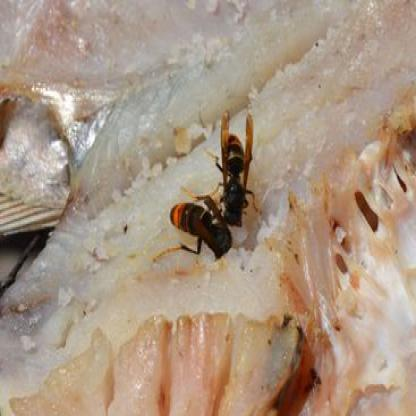Asian Hornet: (212, 101, 263, 233), (170, 194, 235, 264)
